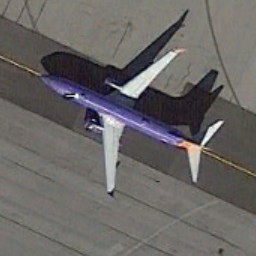Airplane: (32, 39, 229, 209)
